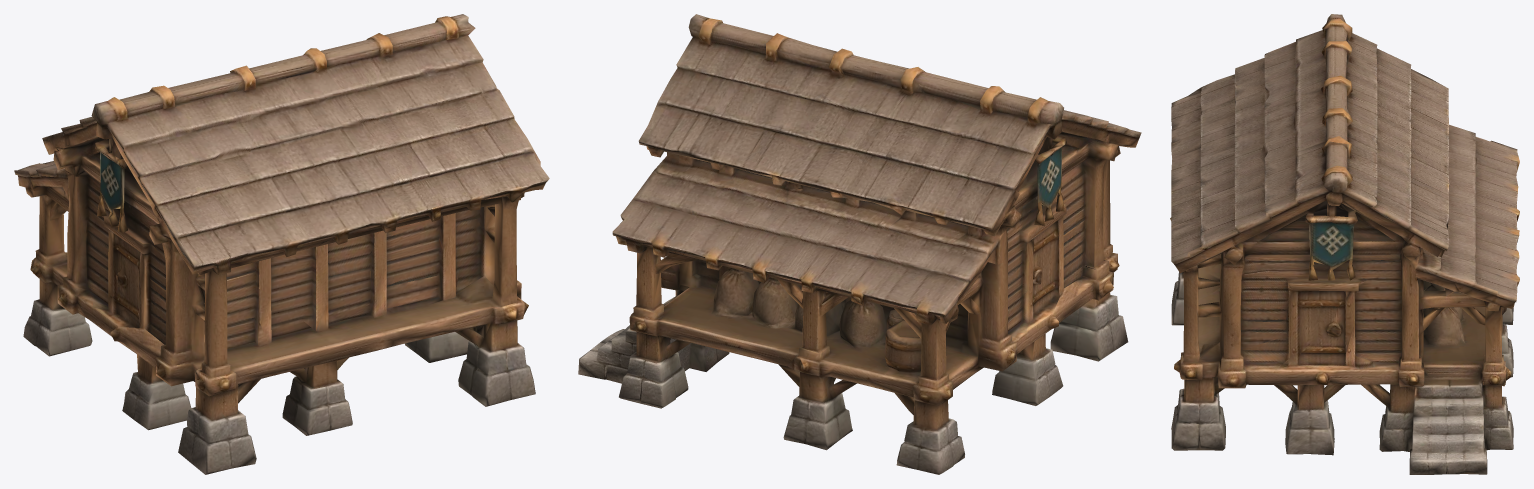
File: ambar-sv5.glb
3 renders of one model, left to right at view 1: azimuth 30°, elevation 25°; view 2: azimuth 150°, elevation 25°; view 3: azimuth 270°, elevation 25°, orthographic. The views are drawn at different scales.
Visible parts, largest first — view 1: tripo_node_7c28906e-b17c-425a-992e-d712f1d80bba; view 2: tripo_node_7c28906e-b17c-425a-992e-d712f1d80bba; view 3: tripo_node_7c28906e-b17c-425a-992e-d712f1d80bba.
Boxes of the visible parts, x1,y1,x2,y2 form: tripo_node_7c28906e-b17c-425a-992e-d712f1d80bba: (14,14,549,474); tripo_node_7c28906e-b17c-425a-992e-d712f1d80bba: (578,14,1141,474); tripo_node_7c28906e-b17c-425a-992e-d712f1d80bba: (1170,14,1519,474).
Bounding box in the file's own units: 1 × 0.7435 × 0.8224.
1 material, 1 textured.
